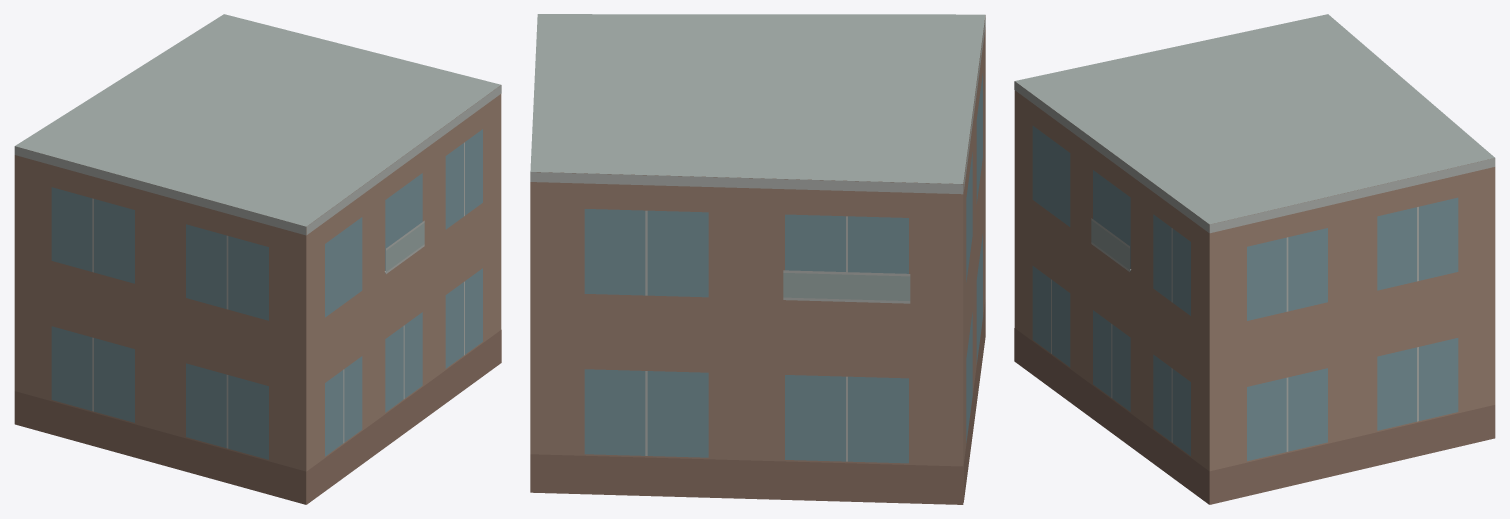
The model's file is survey-upis-32495471.glb.
3 views of the same model, side by side, from view 1: azimuth 30°, elevation 25°; view 2: azimuth 150°, elevation 25°; view 3: azimuth 270°, elevation 25° (orthographic). The views are drawn at different scales.
Visible parts, largest first — view 1: survey-upis-32495471.tmp; view 2: survey-upis-32495471.tmp; view 3: survey-upis-32495471.tmp.
Boxes of the visible parts, x1=… form: survey-upis-32495471.tmp: x1=14, y1=14, x2=501, y2=504; survey-upis-32495471.tmp: x1=530, y1=14, x2=985, y2=504; survey-upis-32495471.tmp: x1=1014, y1=14, x2=1495, y2=504.
Bounding box in the file's own units: 12.41 × 7.7 × 11.98.
